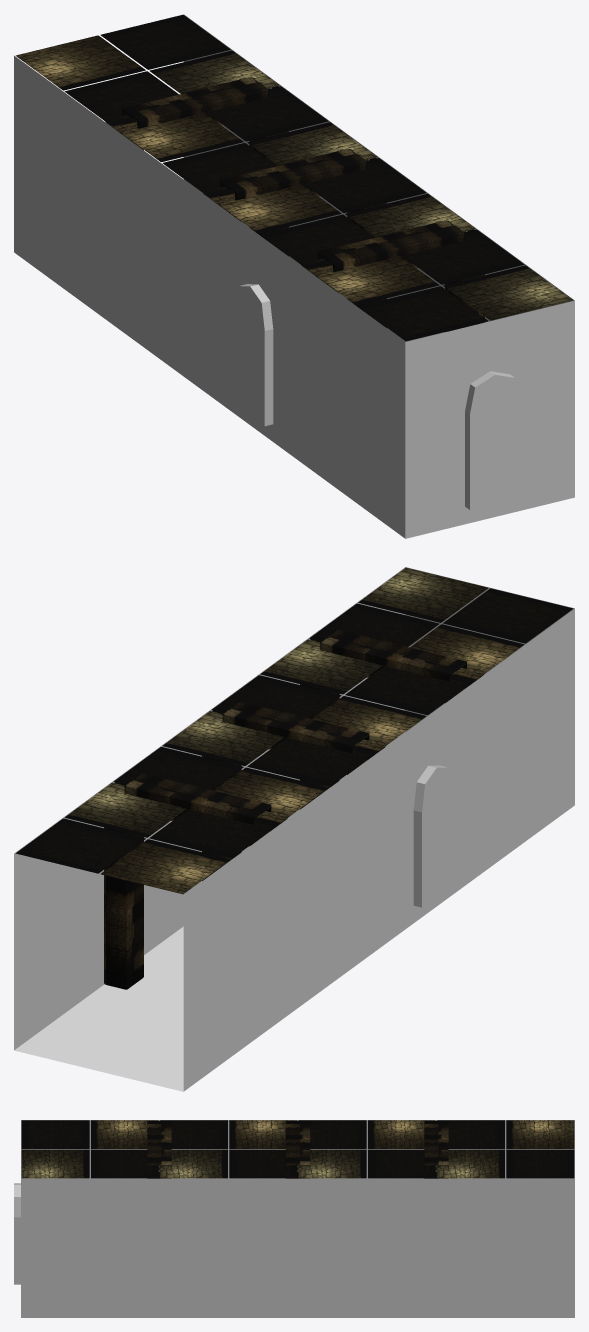
The model's file is Corredor01.fbx.
3 renders of one model, top to bottom at view 1: azimuth 30°, elevation 25°; view 2: azimuth 150°, elevation 25°; view 3: azimuth 270°, elevation 25°, orthographic. The views are drawn at different scales.
Visible parts, largest first — view 1: Castle_Wall1, Castle_Ceiling1, Castle_Beam1; view 2: Castle_Wall1, Castle_Ceiling1, Castle_Beam1, Castle_Floor1; view 3: Castle_Wall1, Castle_Ceiling1, Castle_Beam1.
Part boxes in pixels (box(x1,y1,x2,y2)): Castle_Wall1: box(14, 14, 574, 538); Castle_Ceiling1: box(16, 14, 573, 341); Castle_Beam1: box(105, 77, 484, 332); Castle_Wall1: box(14, 567, 574, 1091); Castle_Ceiling1: box(15, 567, 572, 894); Castle_Beam1: box(104, 630, 483, 989); Castle_Floor1: box(14, 926, 183, 1091); Castle_Wall1: box(14, 1120, 574, 1317); Castle_Ceiling1: box(21, 1120, 574, 1178); Castle_Beam1: box(147, 1121, 448, 1178).
Size of the model in its own units: 210 by 231 by 810.
